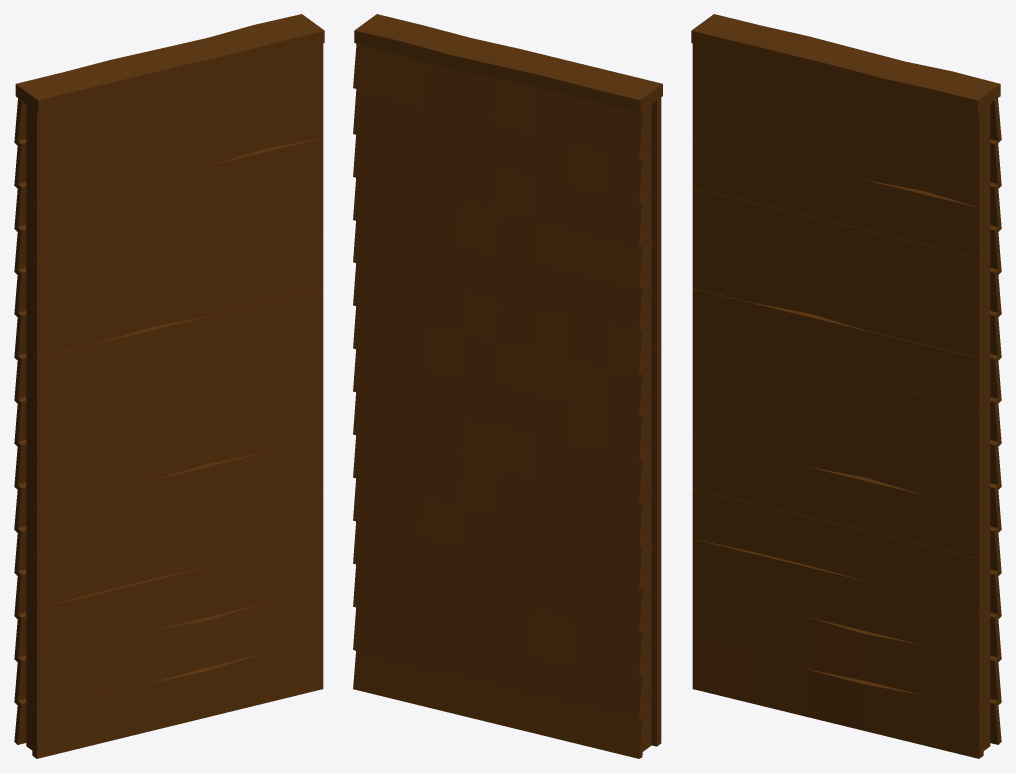
File: Wall1.fbx
3 views of the same model, side by side, from view 1: azimuth 30°, elevation 25°; view 2: azimuth 150°, elevation 25°; view 3: azimuth 330°, elevation 25° (orthographic).
Visible parts, largest first — view 1: Cube.001, Cube.011; view 2: Cube.011, Cube.001; view 3: Cube.001, Cube.011.
Boxes of the visible parts, box(x1,y1,x2,y2) form: Cube.001: box(32, 43, 323, 758); Cube.011: box(14, 14, 324, 750); Cube.011: box(353, 14, 662, 758); Cube.001: box(651, 97, 661, 746); Cube.001: box(692, 43, 983, 758); Cube.011: box(691, 14, 1001, 750).
Size of the model in its own units: 100 by 220 by 14.83.
